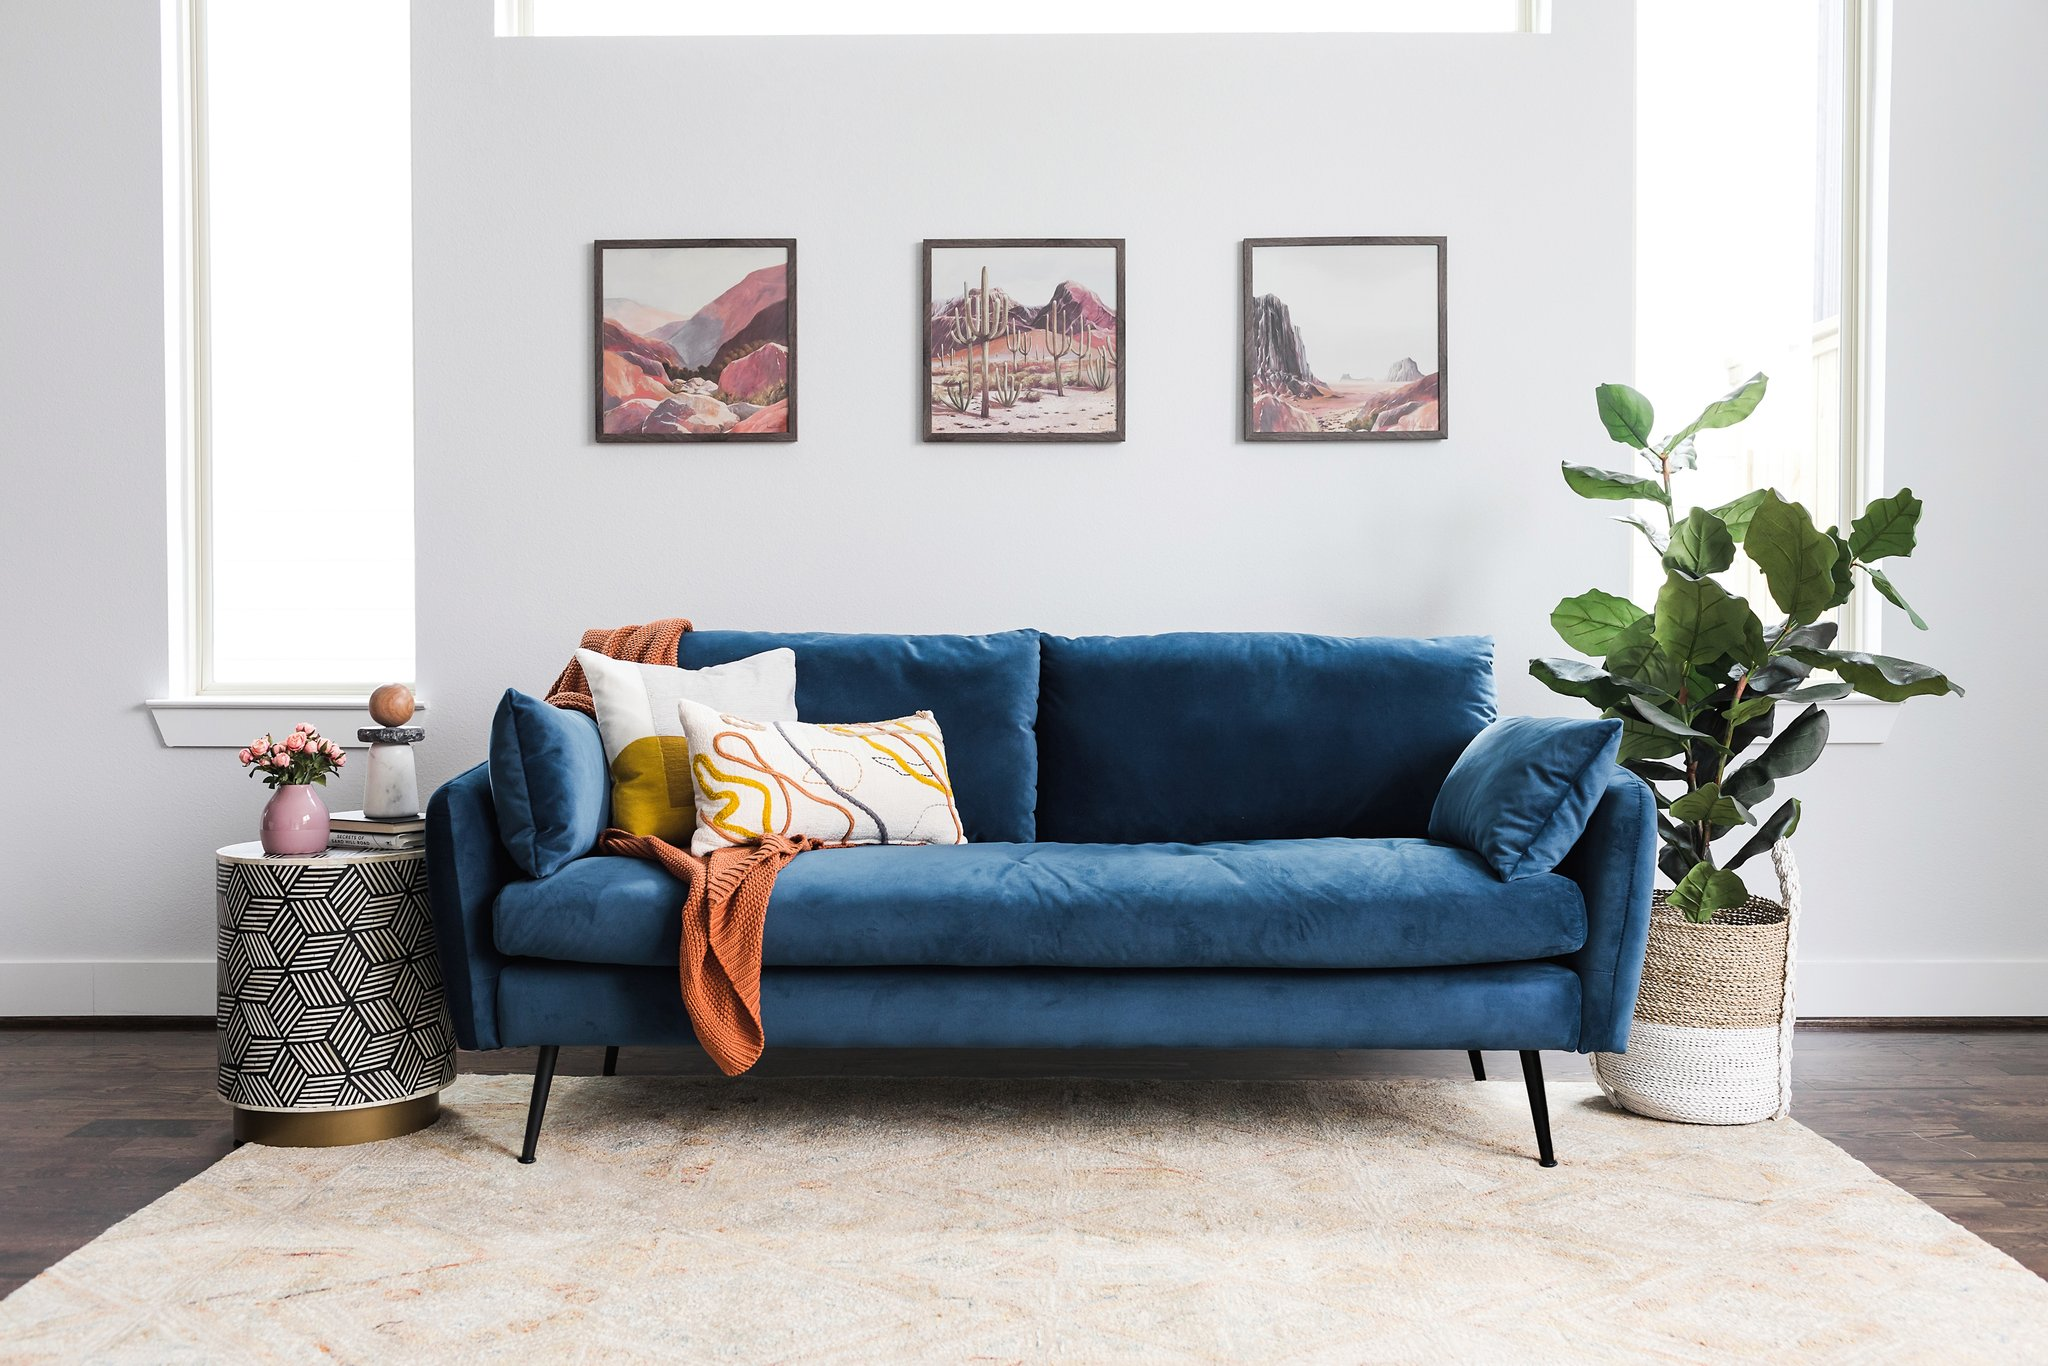lukisan: (1231, 223, 1458, 447), (917, 230, 1132, 447), (587, 227, 798, 447)
sova: (433, 619, 1653, 1053)
tanaman: (1598, 389, 1826, 1127), (241, 720, 338, 854)
